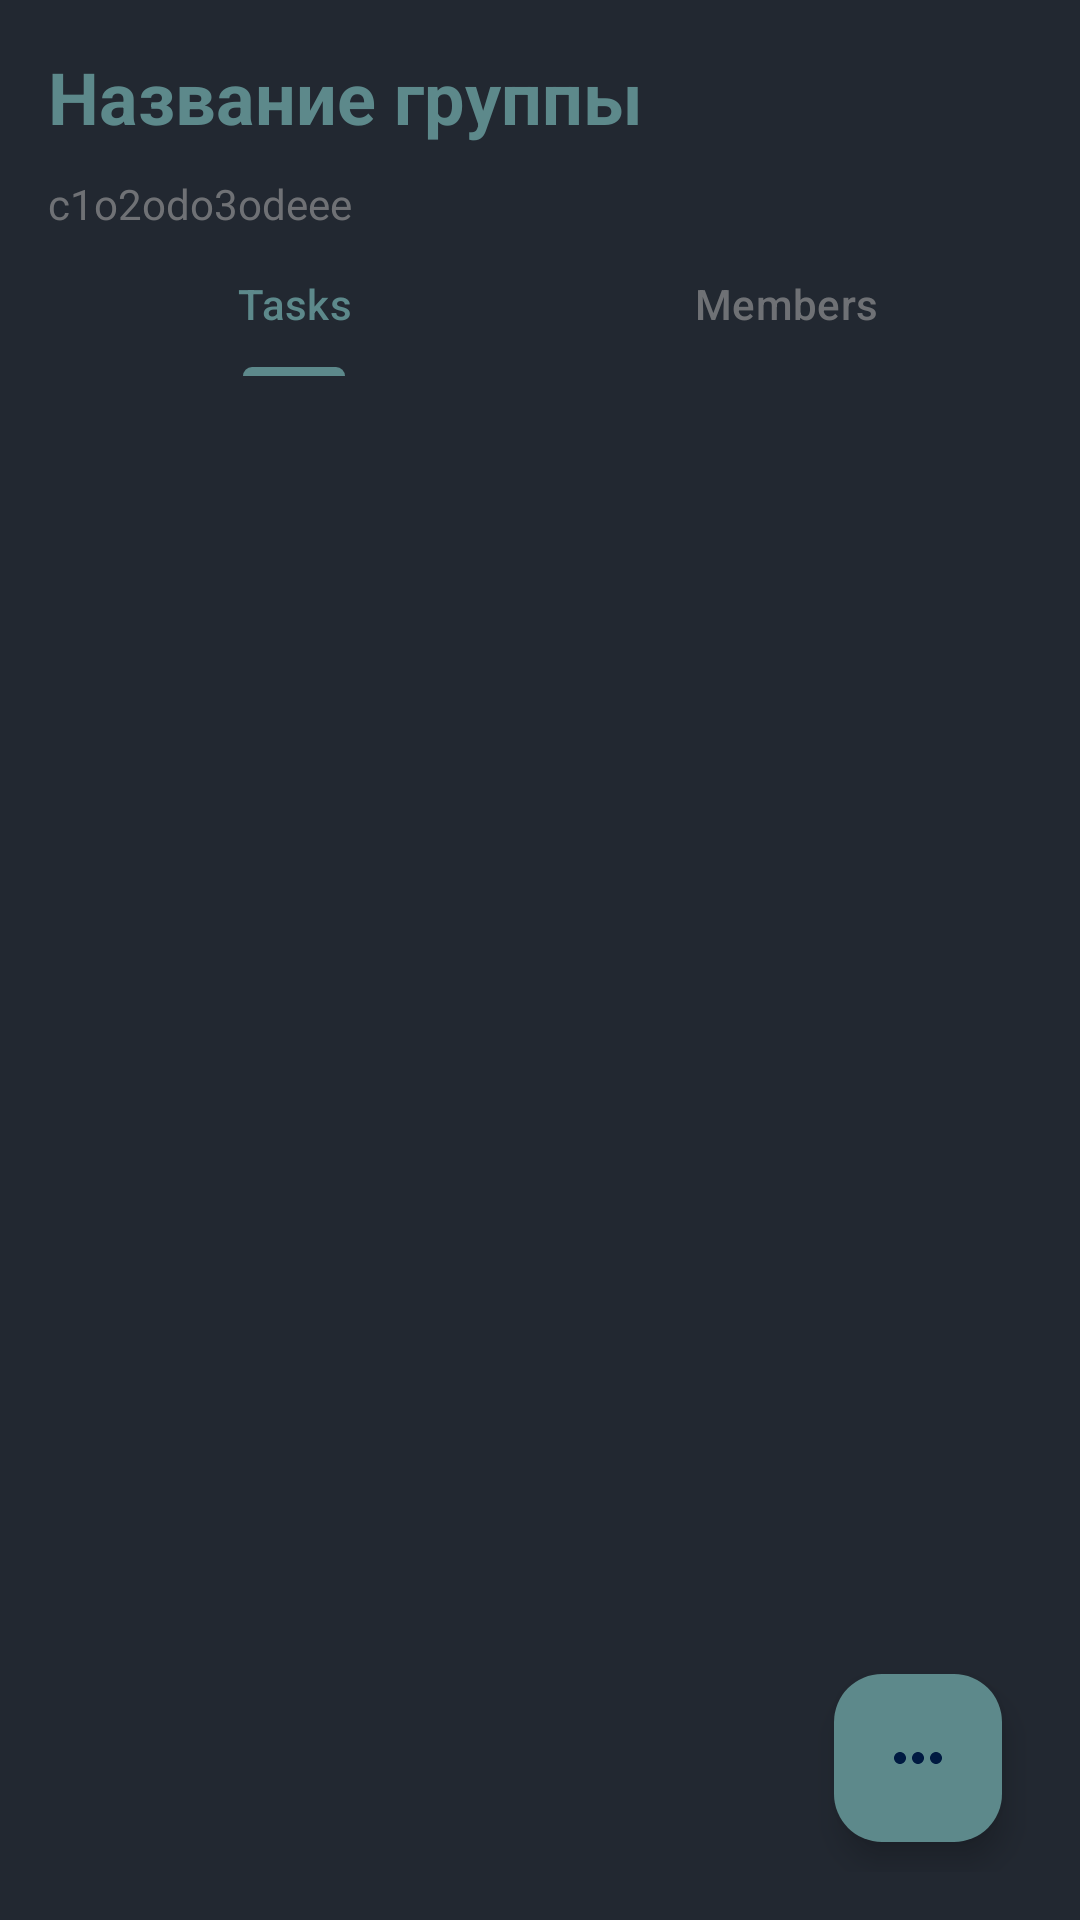

Screen size 1080 × 1920. Icon name, then its center in pixels as (x,y):
Options: (918,1758)
